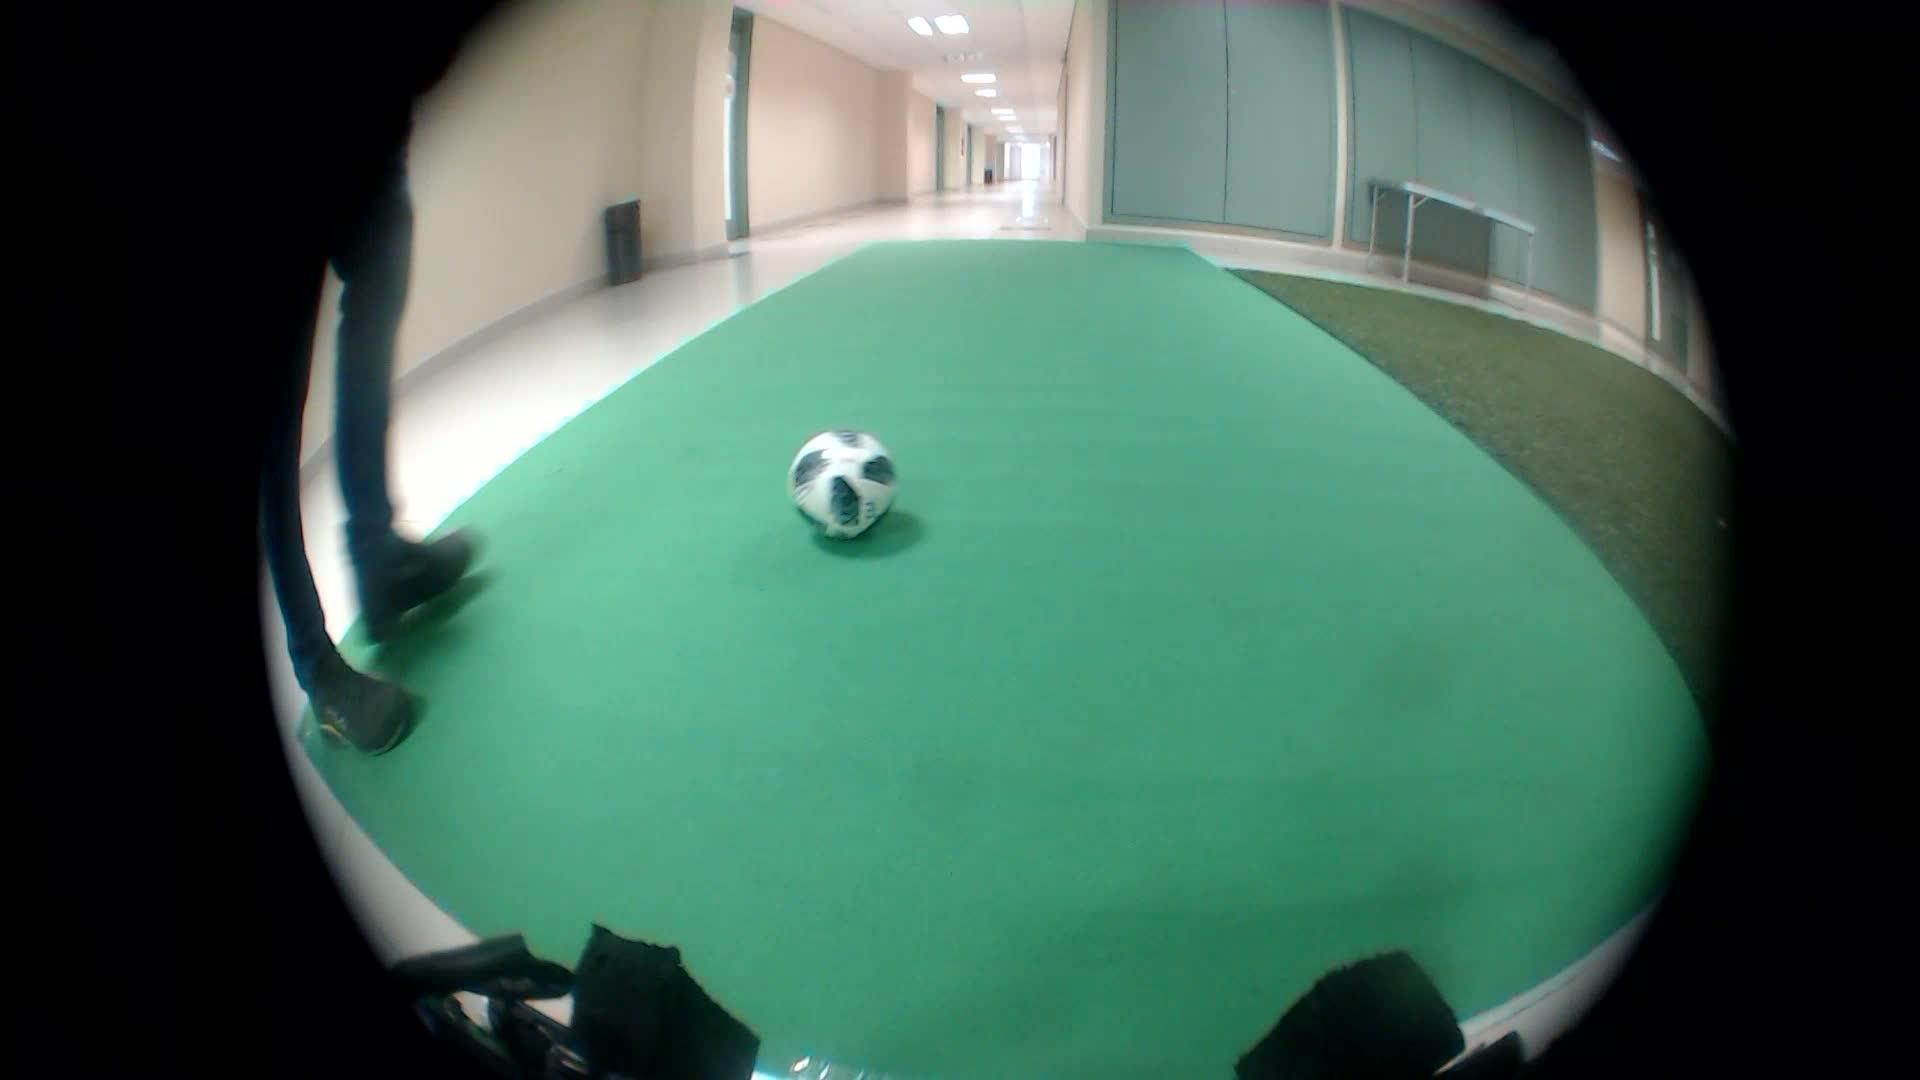ball: (766, 411, 911, 549)
